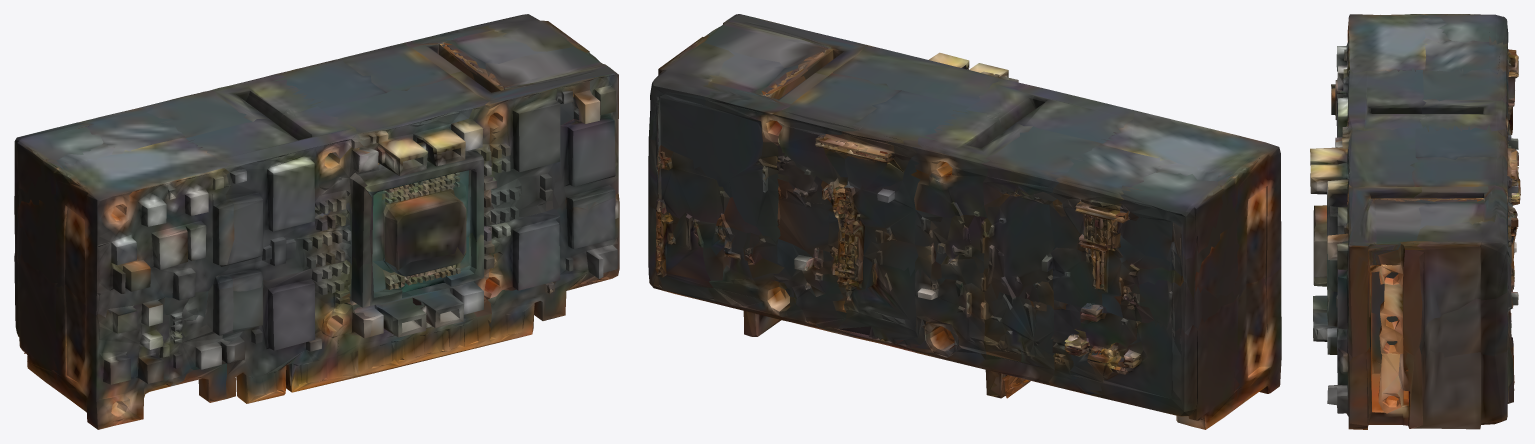
File: technology-09.glb
The picture shows the model from 3 angles, left to right: view 1: azimuth 30°, elevation 25°; view 2: azimuth 150°, elevation 25°; view 3: azimuth 270°, elevation 25°; orthographic projection. The views are drawn at different scales.
Visible parts, largest first — view 1: tmpsn74q0f6.obj; view 2: tmpsn74q0f6.obj; view 3: tmpsn74q0f6.obj.
Part boxes in pixels (bbox=[...]): tmpsn74q0f6.obj: bbox=[14, 14, 619, 429]; tmpsn74q0f6.obj: bbox=[648, 14, 1281, 429]; tmpsn74q0f6.obj: bbox=[1310, 14, 1520, 429].
Size of the model in its own units: 1.69 by 0.7474 by 0.6475.
Materials: 1 (1 with a texture image).
